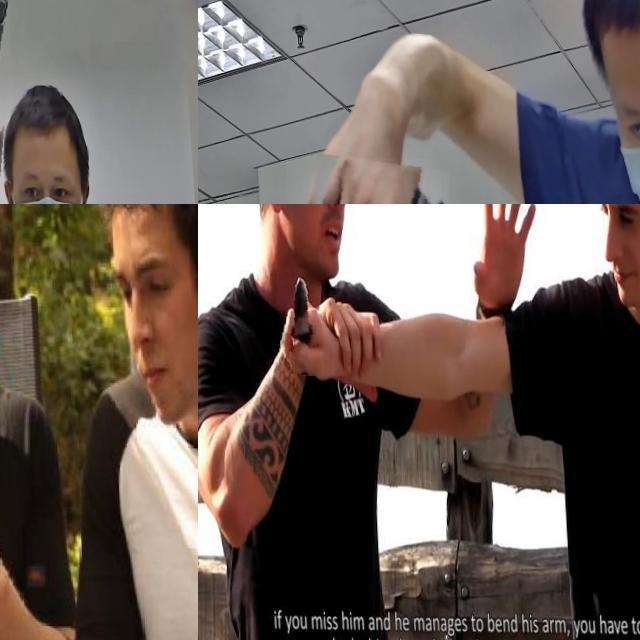-: (274, 268, 320, 376)
gun-knife-thesis - v11 Yolov5 augmented: (0, 0, 33, 174)
